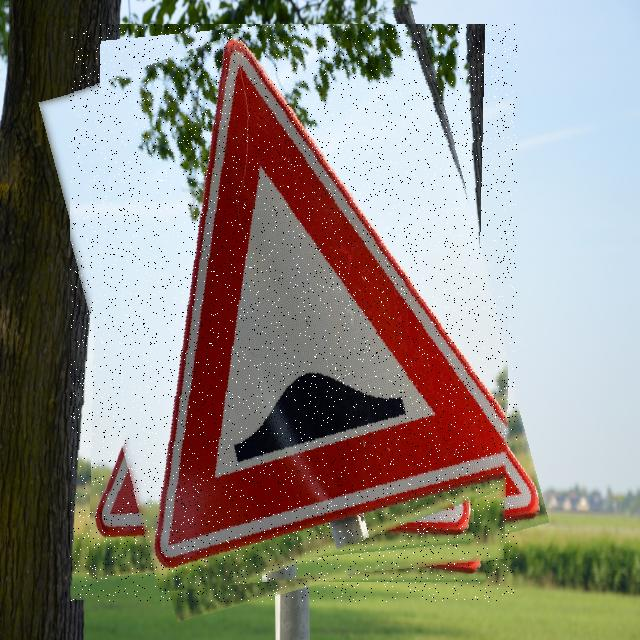hump: (70, 24, 517, 602)
